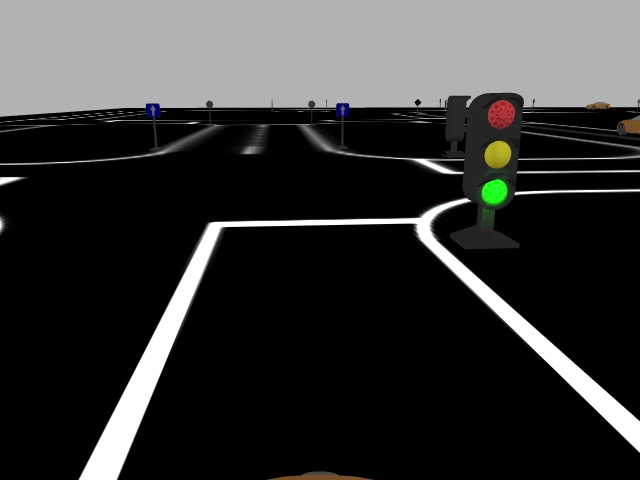green_light: (459, 91, 524, 211)
oneway: (144, 102, 162, 120), (334, 102, 351, 118)
